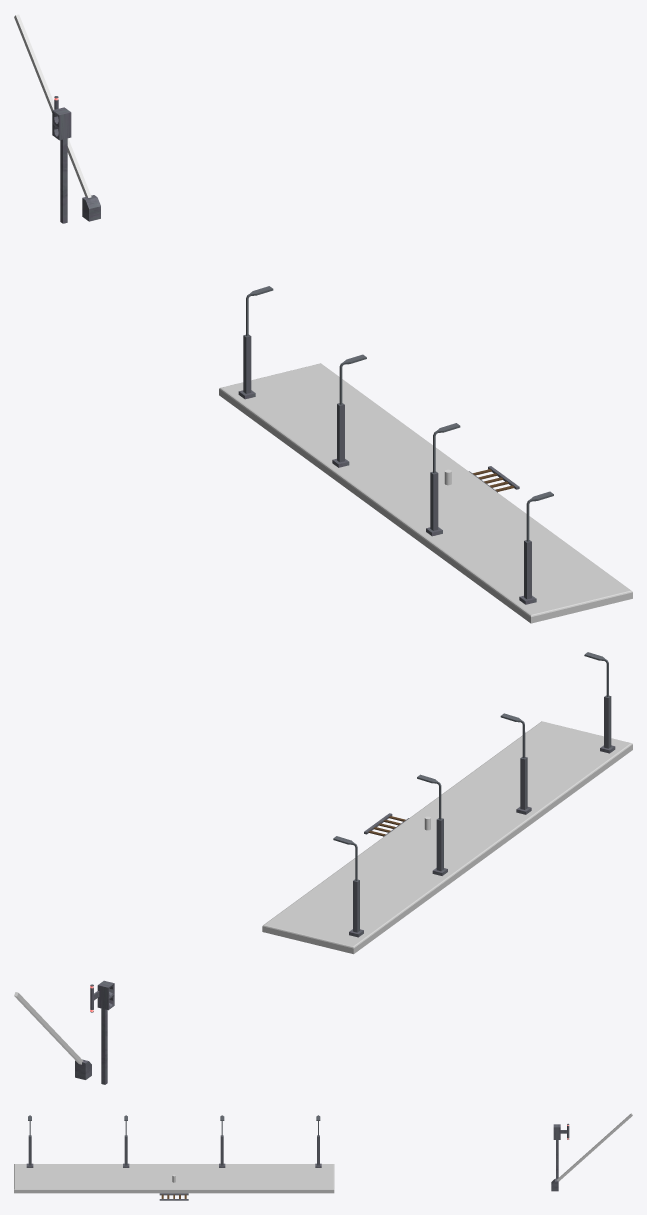
File: perron stuff etc.fbx
The picture shows the model from 3 angles, top to bottom: view 1: azimuth 30°, elevation 25°; view 2: azimuth 150°, elevation 25°; view 3: azimuth 270°, elevation 25°; orthographic projection. The views are drawn at different scales.
Visible parts, largest first — view 1: Cube.001, Cube.002, Cube.003, Cube.005; view 2: Cube.001, Cube.002, Cube.005, Cube.003; view 3: Cube.001, Cube.002, Cube.003, Cube.005, Cube.
Boxes of the visible parts, x1,y1,x2,y2 form: Cube.001: (219,363,632,623); Cube.002: (238,286,553,604); Cube.003: (14,14,100,221); Cube.005: (52,96,71,223); Cube.001: (262,721,632,954); Cube.002: (333,652,615,937); Cube.005: (90,980,114,1084); Cube.003: (14,992,91,1079); Cube.001: (14,1164,334,1193); Cube.002: (26,1115,321,1167); Cube.003: (551,1113,632,1191); Cube.005: (553,1123,569,1178); Cube: (159,1193,188,1200).
Bounding box in the file's own units: 2172 × 2368 × 17387.
